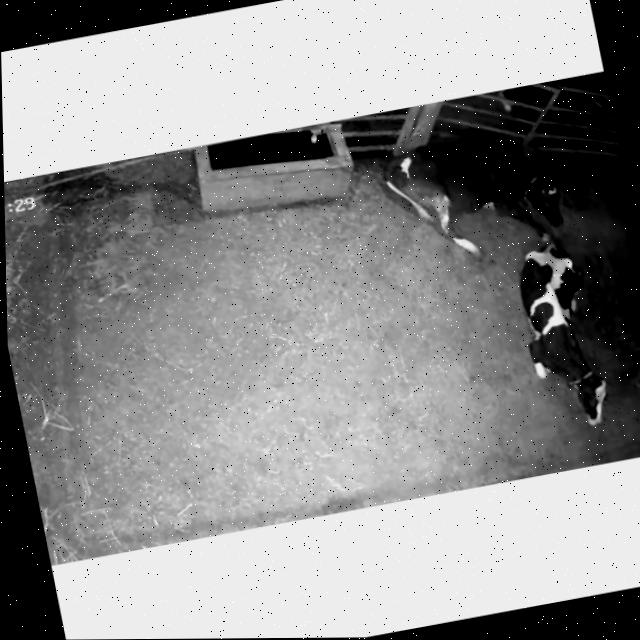lay: (371, 109, 597, 271), (498, 226, 627, 445)
